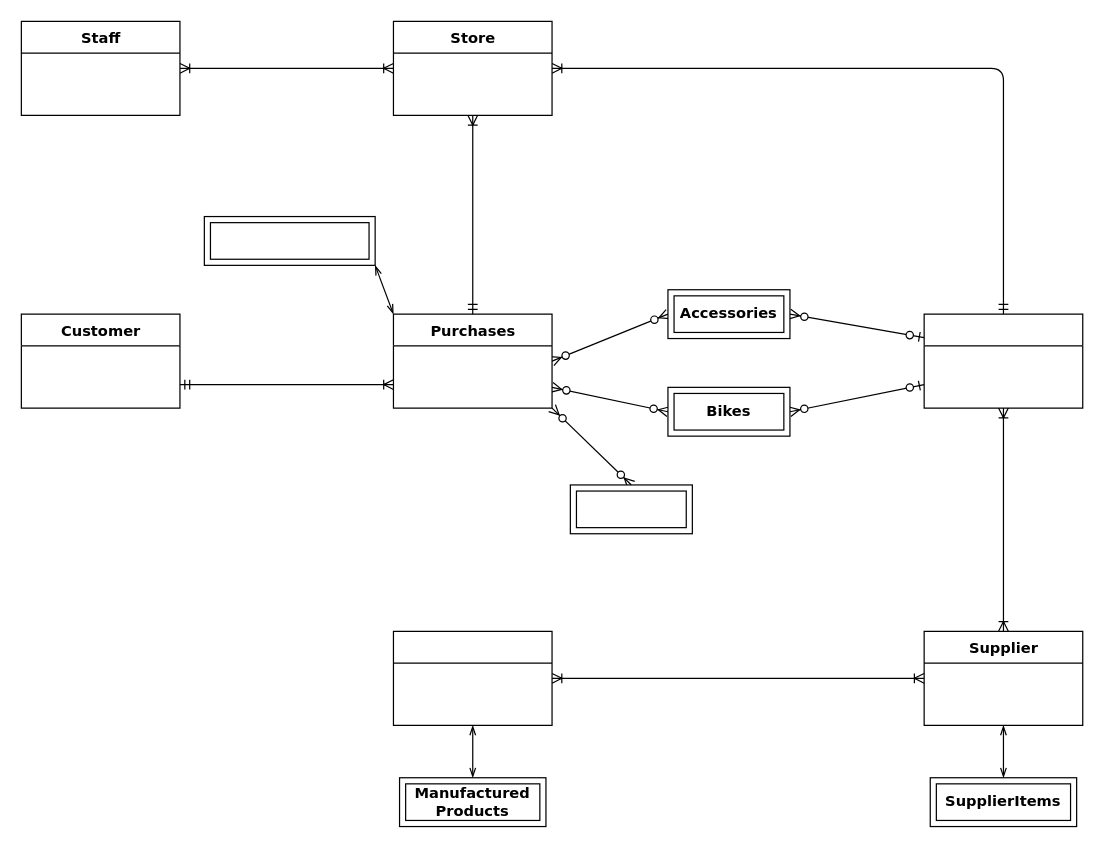
The diagram is 1104 pixels wide and 848 high, and some of its shapes have lost their labels. Each missing label, with the centre of its shape:
"Inventory" goes at (1003,360).
"InvoiceLineItem" goes at (289,240).
"Manufacturer" goes at (472,677).
"Services" goes at (630,509).
